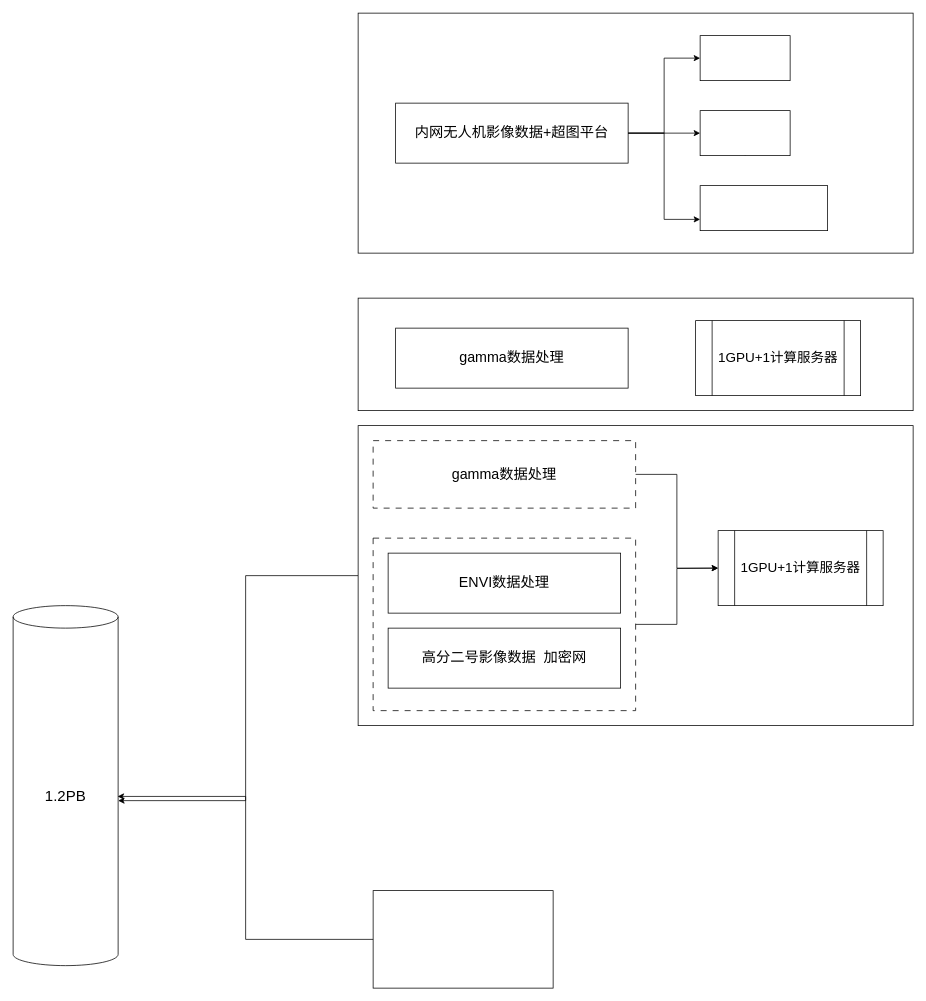
Some shapes in this 926 by 1001 pixel diagram are drawn without their labels. Here are the shapes that lost their labels. From the top down, the centre of each, then its label:
point (744, 58): 存储100TB
point (744, 133): GPU
point (763, 208): 连接涉密电脑
point (462, 939): 6台电脑 6×48TB=288TB
